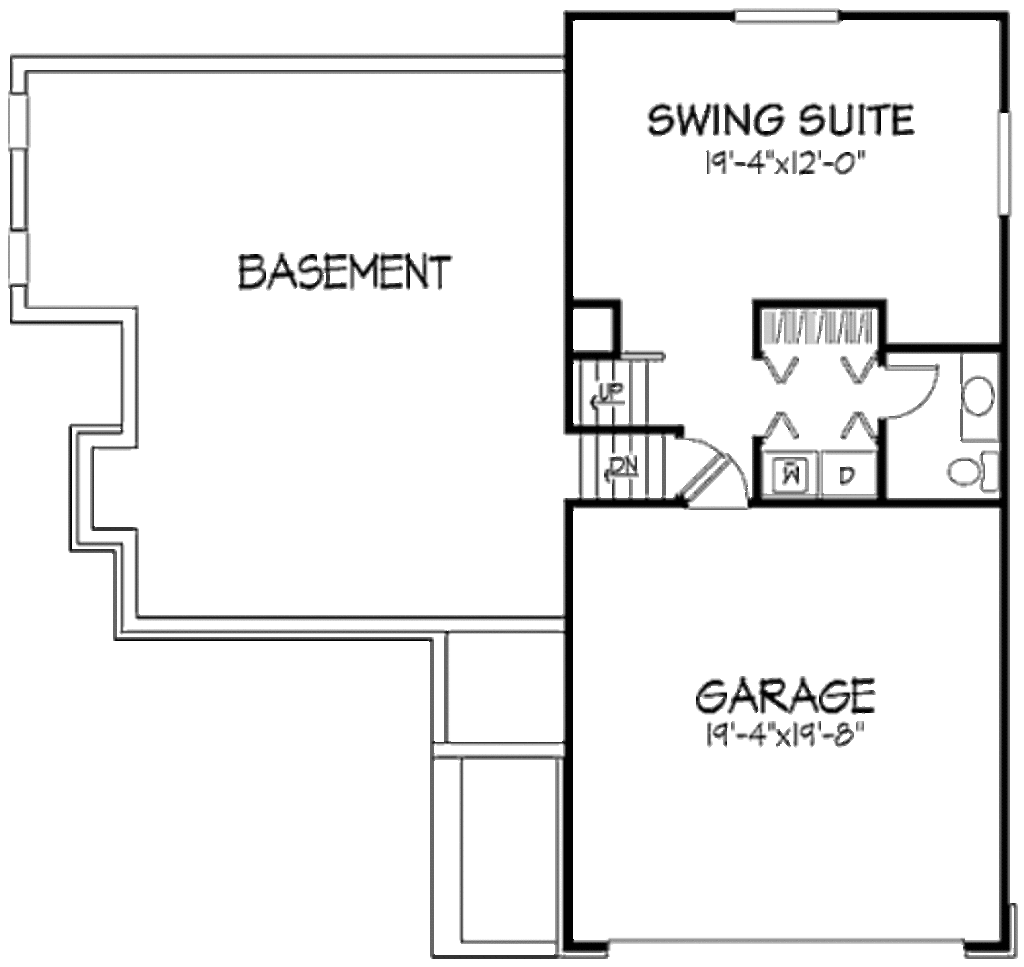door: (878, 365, 946, 430), (677, 454, 758, 506), (677, 434, 718, 497)
large_sink: (934, 447, 1002, 492)
small_sink: (959, 349, 1000, 445)
stairs: (574, 349, 675, 502)
window: (990, 109, 1024, 216), (730, 8, 843, 27)
